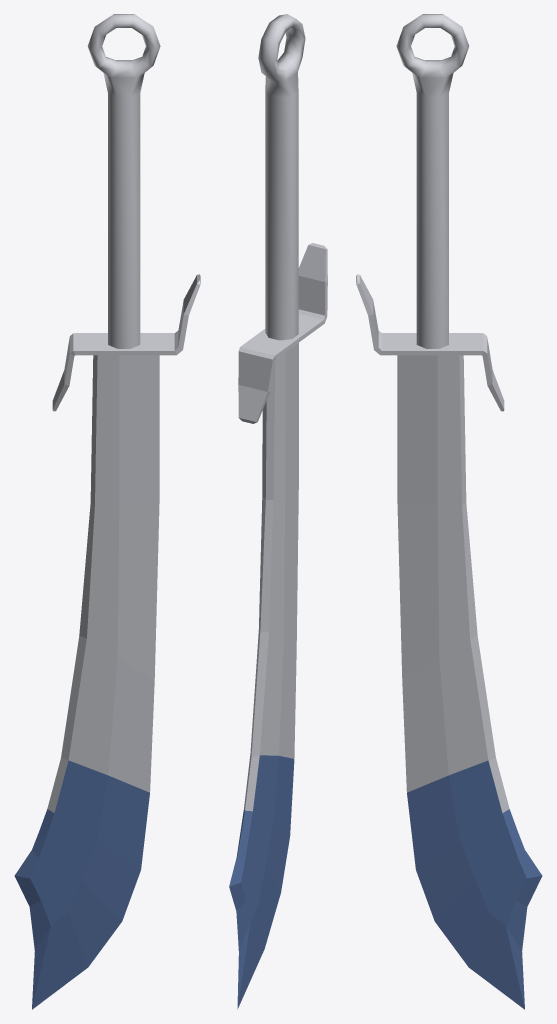
File: Sword_A.glb
The picture shows the model from 3 angles, left to right: view 1: azimuth 90°, elevation 25°; view 2: azimuth 150°, elevation 25°; view 3: azimuth 270°, elevation 25°; orthographic projection. The views are drawn at different scales.
Parts seen in each view (by area): view 1: Sword_A; view 2: Sword_A; view 3: Sword_A.
Boxes of the visible parts, bbox=[...] form: Sword_A: bbox=[14, 14, 200, 1009]; Sword_A: bbox=[229, 14, 327, 1009]; Sword_A: bbox=[356, 14, 542, 1009].
Size of the model in its own units: 0.0384 by 1 by 0.1694.
